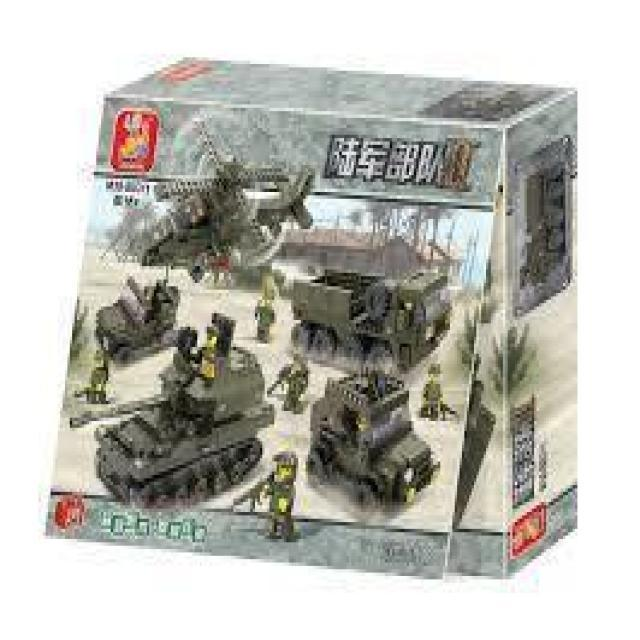MIL_MBT: (102, 328, 273, 497)
